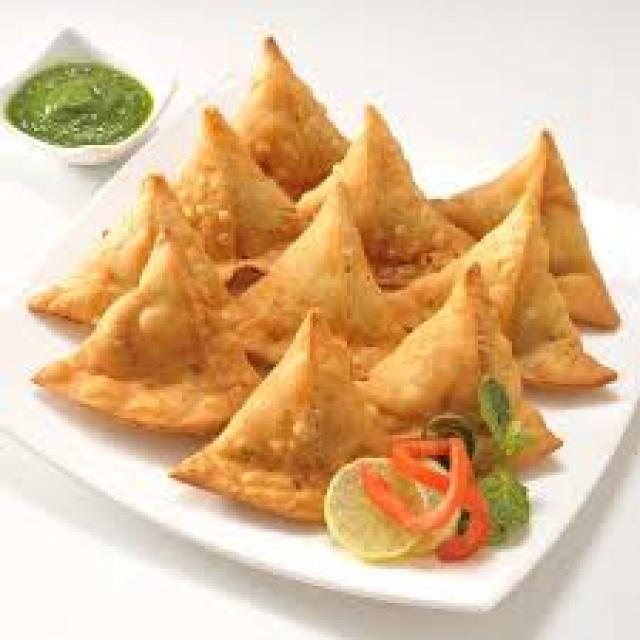SAMOSA: (34, 205, 259, 432), (384, 179, 614, 384), (174, 310, 387, 521), (361, 265, 558, 464), (233, 185, 455, 358), (438, 131, 617, 321), (341, 105, 469, 267), (28, 179, 156, 324), (179, 105, 296, 259), (233, 40, 347, 196)
